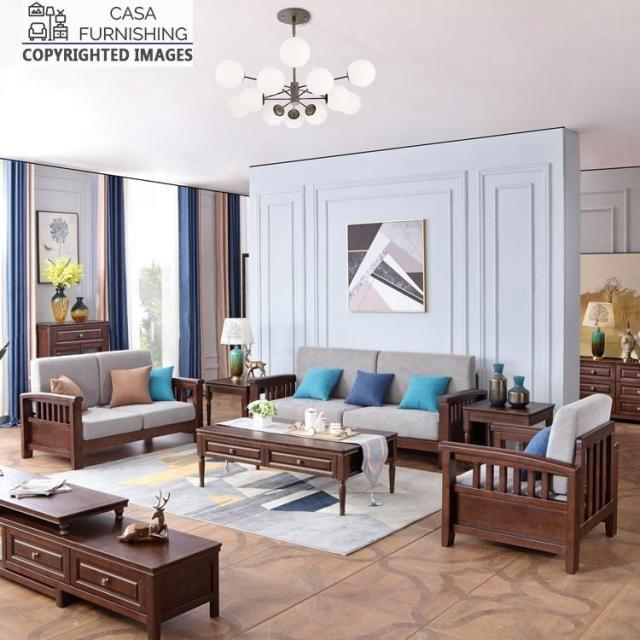sofa: (436, 400, 622, 610), (251, 346, 488, 460), (19, 347, 204, 470)
